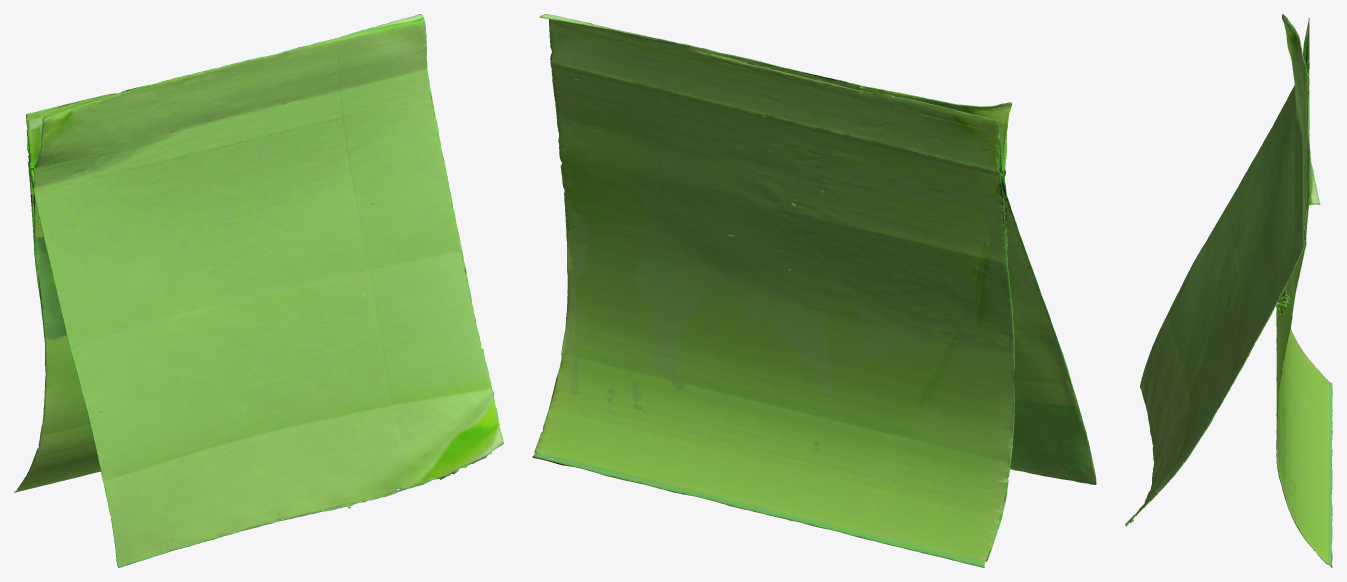
The model's file is Sticky_Note__0922192507_texture.fbx.
3 renders of one model, left to right at view 1: azimuth 30°, elevation 25°; view 2: azimuth 150°, elevation 25°; view 3: azimuth 270°, elevation 25°, orthographic. The views are drawn at different scales.
Visible parts, largest first — view 1: Mesh_0; view 2: Mesh_0; view 3: Mesh_0.
Boxes of the visible parts, left/top/right/bottom form: Mesh_0: left=14, top=14, right=503, bottom=567; Mesh_0: left=532, top=14, right=1096, bottom=567; Mesh_0: left=1125, top=14, right=1332, bottom=567.
Size of the model in its own units: 190 by 179 by 90.29.
Materials: 1 (1 with a texture image).
